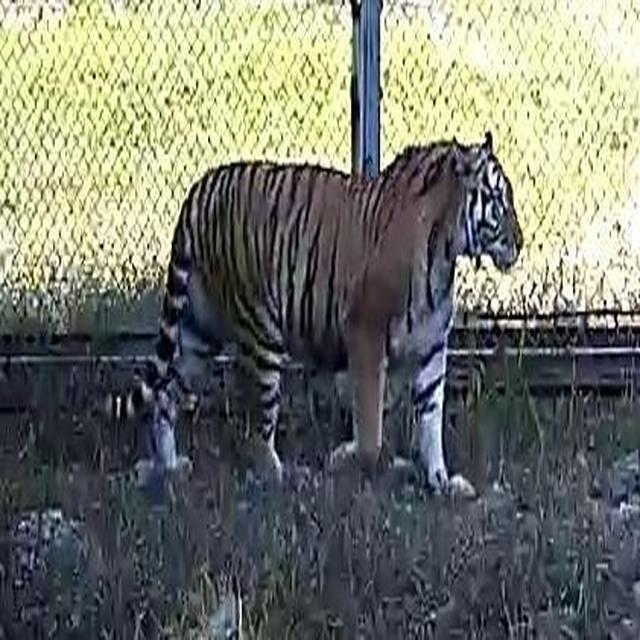tiger: (132, 130, 524, 505)
